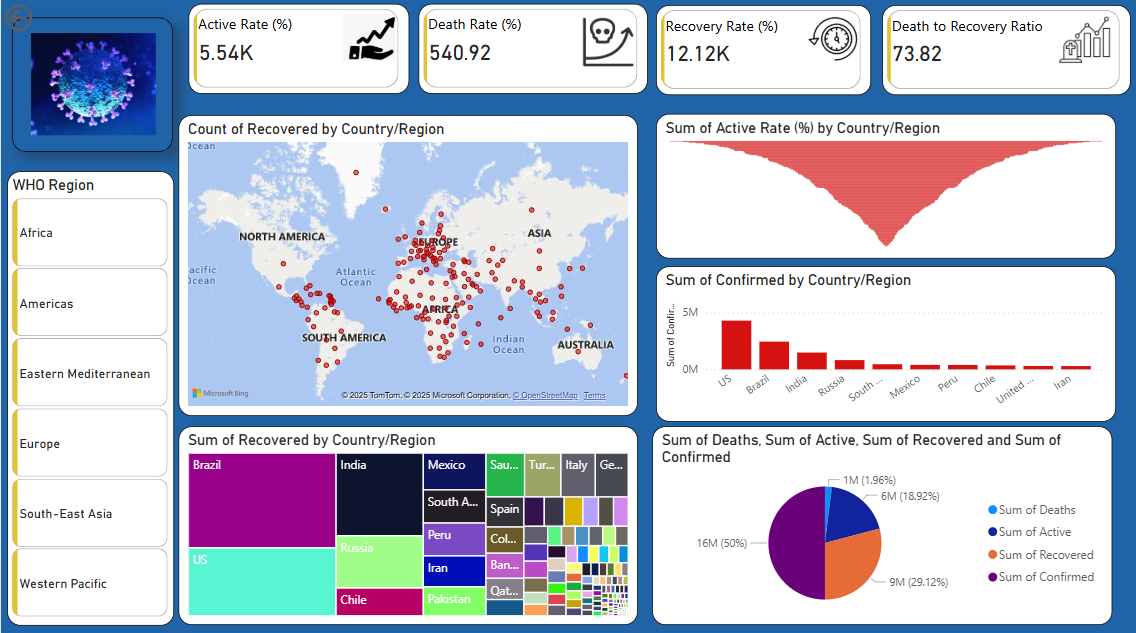

The page's visual inventory and layout, read from the dashboard file:
{"tool":"powerbi","page":{"name":"Page 1","canvas":[1280,720],"ordinal":0},"visuals":[{"type":"shape","box":[13.1,19.7,181.2,151],"z":0},{"type":"map","fields":{"Category":["country_wise_latest.Country/Region"],"Size":["CountNonNull(country_wise_latest.Recovered)"]},"box":[200.3,129.1,517.6,339],"z":1000},{"type":"actionButton","box":[0,0,100,40],"z":2000},{"type":"advancedSlicerVisual","fields":{"Values":["country_wise_latest.WHO Region"]},"box":[6.6,193,187.7,512],"z":3000},{"type":"cardVisual","fields":{"Data":["Sum(covid_data.Active Rate (%))"]},"box":[211.1,4.8,248.5,101.3],"z":4000},{"type":"clusteredColumnChart","fields":{"Category":["covid_data.Country/Region"],"Y":["Sum(covid_data.Confirmed)"]},"box":[738.3,300,518.3,175],"z":5000},{"type":"cardVisual","fields":{"Data":["Sum(covid_data.Death Rate (%))"]},"box":[470.5,4.8,258.2,101.3],"z":6000},{"type":"cardVisual","fields":{"Data":["Sum(covid_data.Recovery Rate (%))"]},"box":[738.3,6,242.5,101.3],"z":7000},{"type":"cardVisual","fields":{"Data":["Sum(covid_data.Death to Recovery Ratio)"]},"box":[992.9,6,279.9,101.3],"z":8000},{"type":"image","box":[22.9,8.4,162.9,173.7],"z":9000},{"type":"pieChart","fields":{"Y":["Sum(covid_data.Deaths)","Sum(covid_data.Active)","Sum(covid_data.Recovered)","Sum(covid_data.Confirmed)"]},"box":[733.5,480.2,518.8,224.4],"z":10000},{"type":"treemap","fields":{"Group":["covid_data.Country/Region"],"Values":["Sum(covid_data.Recovered)"]},"box":[200.3,480.2,517.6,224.4],"z":10001},{"type":"funnel","fields":{"Category":["covid_data.Country/Region"],"Y":["Sum(covid_data.Active Rate (%))"]},"box":[738.3,128.3,518.3,163.3],"z":10002}]}

Visuals, with their boxes in screenshot pixels (x1, y1, x2, y2), scaled from the page's 1280x720 canvas onto the 1136x633 screenshot:
shape: bbox(12, 17, 172, 150)
map - country_wise_latest.Country/Region x CountNonNull(country_wise_latest.Recovered): bbox(178, 114, 637, 412)
actionButton: bbox(0, 0, 89, 35)
advancedSlicerVisual - country_wise_latest.WHO Region: bbox(6, 170, 172, 620)
cardVisual - Sum(covid_data.Active Rate (%)): bbox(187, 4, 408, 93)
clusteredColumnChart - covid_data.Country/Region x Sum(covid_data.Confirmed): bbox(655, 264, 1115, 418)
cardVisual - Sum(covid_data.Death Rate (%)): bbox(418, 4, 647, 93)
cardVisual - Sum(covid_data.Recovery Rate (%)): bbox(655, 5, 870, 94)
cardVisual - Sum(covid_data.Death to Recovery Ratio): bbox(881, 5, 1130, 94)
image: bbox(20, 7, 165, 160)
pieChart - Sum(covid_data.Deaths) x Sum(covid_data.Active): bbox(651, 422, 1111, 619)
treemap - covid_data.Country/Region x Sum(covid_data.Recovered): bbox(178, 422, 637, 619)
funnel - covid_data.Country/Region x Sum(covid_data.Active Rate (%)): bbox(655, 113, 1115, 256)
